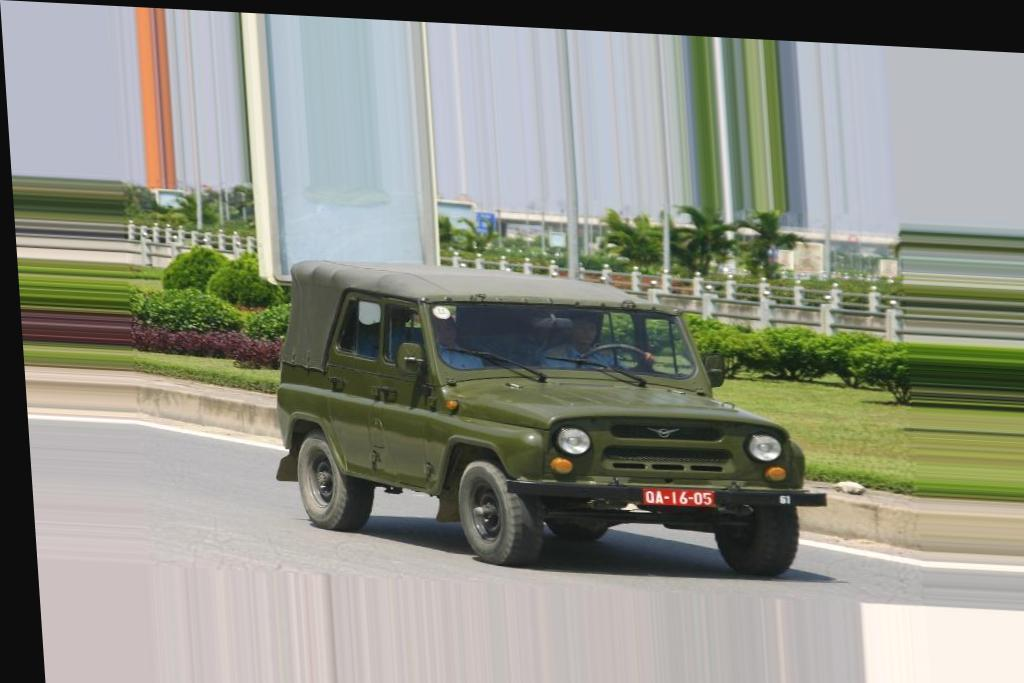License_Plate: (643, 485, 717, 510)
